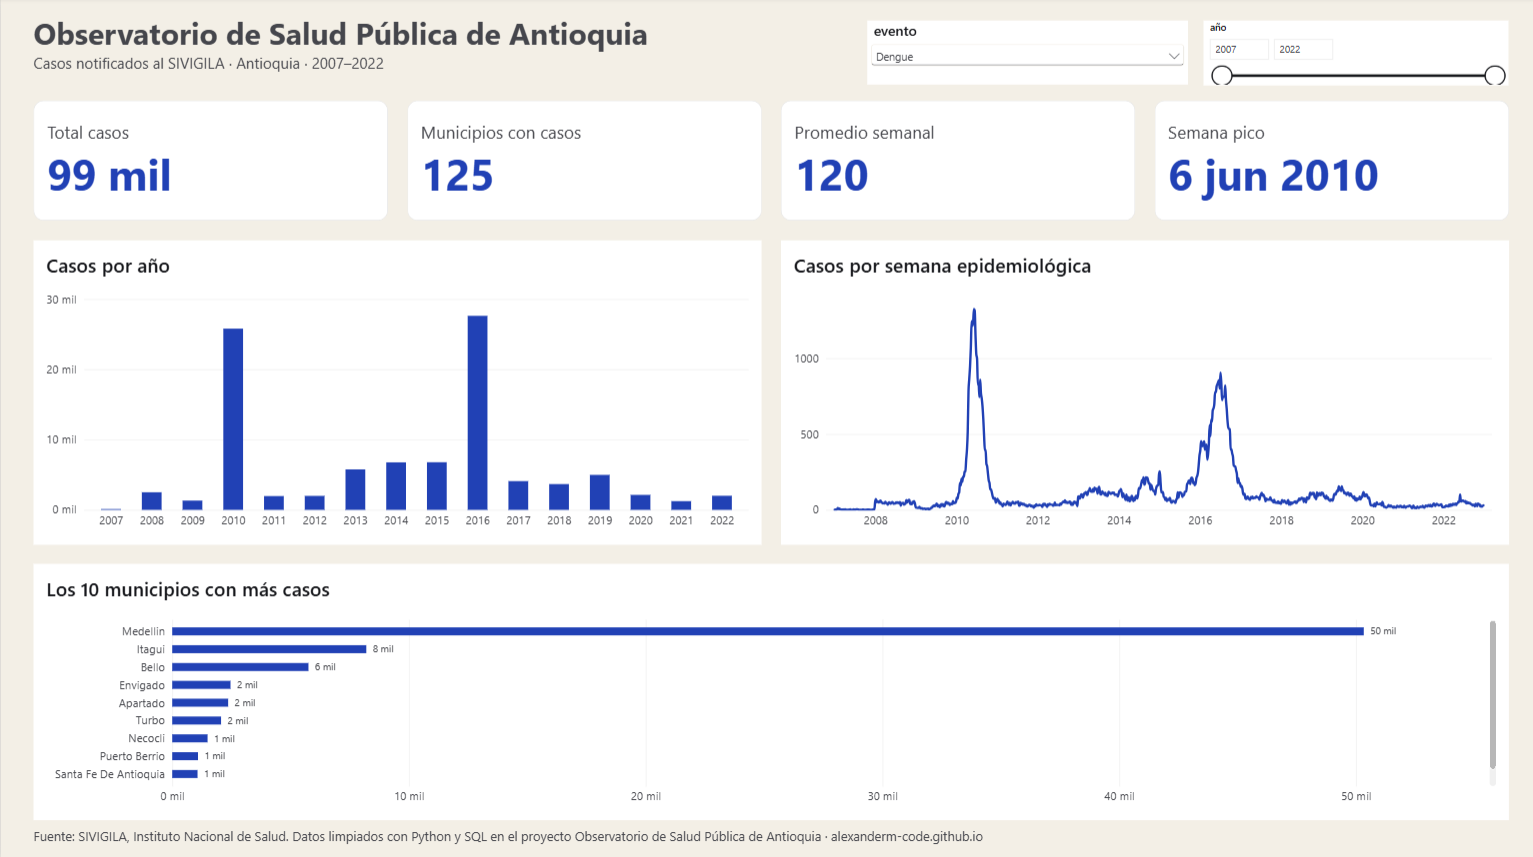

The page's visual inventory and layout, read from the dashboard file:
{"tool":"powerbi","page":{"name":"Página 1","canvas":[1920,1080],"ordinal":0},"visuals":[{"type":"cardVisual","fields":{"Data":["casos_antioquia.Total casos","casos_antioquia.Municipios con casos","casos_antioquia.Promedio semanal","casos_antioquia.Semana pico"]},"box":[40,130,1840,150],"z":0},{"type":"columnChart","title":"Casos por año","fields":{"Category":["casos_antioquia.año"],"Y":["casos_antioquia.Total casos"]},"box":[40,304,908,380],"z":1},{"type":"lineChart","title":"Casos por semana epidemiológica","fields":{"Category":["casos_antioquia.fecha_semana"],"Y":["casos_antioquia.Total casos"]},"box":[972,304,908,380],"z":2},{"type":"barChart","title":"Los 10 municipios con más casos","fields":{"Category":["casos_antioquia.municipio"],"Y":["casos_antioquia.Casos municipio"]},"box":[40,700,1840,336],"z":3},{"type":"slicer","fields":{"Values":["casos_antioquia.evento"]},"box":[1080,30,400,80],"z":4},{"type":"slicer","fields":{"Values":["casos_antioquia.año"]},"box":[1500,30,380,80],"z":5},{"type":"textbox","box":[40,20,1000,100],"z":6},{"type":"textbox","box":[40,1036,1820,40],"z":7}]}

Visuals, with their boxes in screenshot pixels (x1, y1, x2, y2), scaled from the page's 1920x1080 canvas onto the 1533x857 screenshot:
cardVisual - casos_antioquia.Total casos x casos_antioquia.Municipios con casos: (x1=32, y1=103, x2=1501, y2=222)
"Casos por año" columnChart: (x1=32, y1=241, x2=757, y2=543)
"Casos por semana epidemiológica" lineChart: (x1=776, y1=241, x2=1501, y2=543)
"Los 10 municipios con más casos" barChart: (x1=32, y1=555, x2=1501, y2=822)
slicer - casos_antioquia.evento: (x1=862, y1=24, x2=1182, y2=87)
slicer - casos_antioquia.año: (x1=1198, y1=24, x2=1501, y2=87)
textbox: (x1=32, y1=16, x2=830, y2=95)
textbox: (x1=32, y1=822, x2=1485, y2=854)
